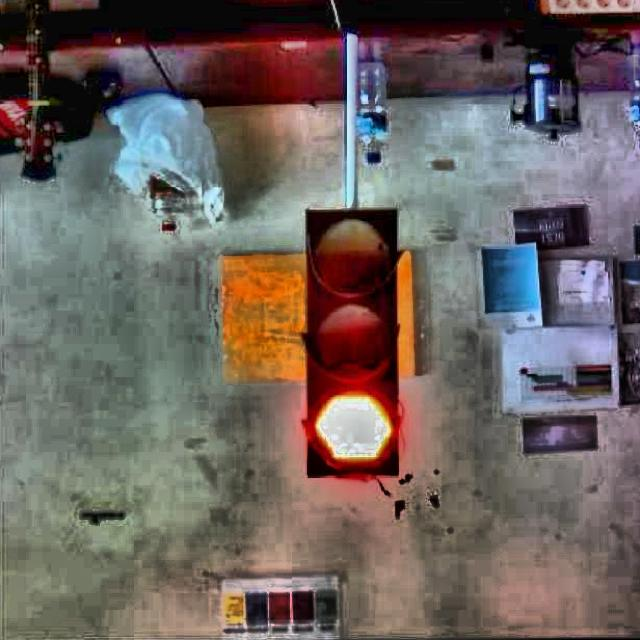red: (301, 211, 407, 483)
